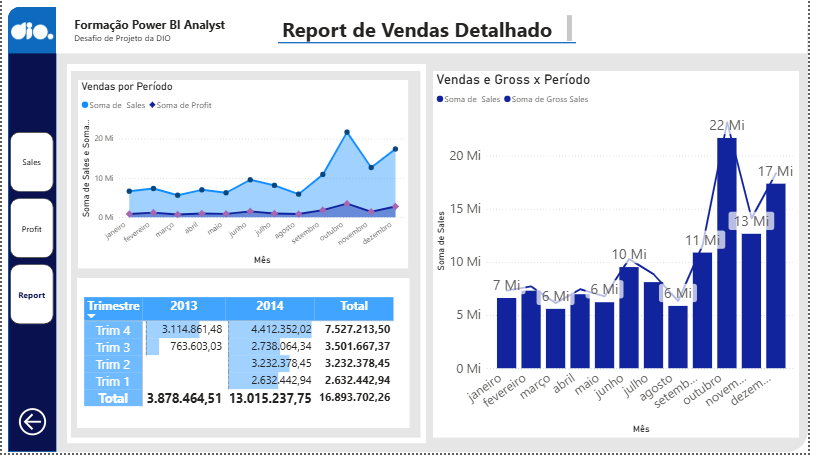

What the dashboard file says about the page in this screenshot:
{"tool":"powerbi","page":{"name":"Report","canvas":[1280,720],"ordinal":2},"visuals":[{"type":"group","id":"g1","title":"Layout","box":[10,12.8,1270,707],"z":0},{"type":"shape","box":[10,12.8,1270,707],"z":0,"group":"g1"},{"type":"shape","box":[437.3,51.5,473,37.1],"z":0,"group":"g3"},{"type":"shape","box":[103.6,103.6,569.9,601.9],"z":0,"group":"g2"},{"type":"shape","box":[10.1,13.4,77.2,706.3],"z":1000,"group":"g1"},{"type":"textbox","box":[438.7,21.3,470.2,52.2],"z":1000,"group":"g3"},{"type":"lineClusteredColumnComboChart","title":"Vendas e Gross x Período","fields":{"Category":["financials.Date.Variation.Hierarquia de datas.Mês"],"Y":["Sum(financials. Sales)"],"Y2":["Sum(financials.Gross Sales)"]},"box":[684.2,114.3,580.6,582.1],"z":1000},{"type":"shape","box":[110.3,114.6,554.7,582.1],"z":1000,"group":"g2"},{"type":"shape","box":[10.1,13.4,77.2,73.8],"z":2000,"group":"g1"},{"type":"group","id":"g2","title":"Detalhes venda x profit","box":[103.6,103.6,569.9,601.9],"z":2000},{"type":"shape","box":[120.1,443.5,528.4,238.2],"z":2000,"group":"g2"},{"type":"image","title":"logo_dio","box":[10.1,18.4,77.2,62.1],"z":3000,"group":"g1"},{"type":"textbox","title":"Título do report","box":[109.7,22.9,377.9,64],"z":3000},{"type":"areaChart","title":"Vendas por Período","fields":{"Category":["financials.Date.Variation.Hierarquia de datas.Trimestre","financials.Date.Variation.Hierarquia de datas.Mês"],"Y":["Sum(financials. Sales)","Sum(financials.Profit)"]},"box":[120.9,128.6,524.2,298.7],"z":3000,"group":"g2"},{"type":"shape","box":[87,12.8,1193.1,74.1],"z":4000,"group":"g1"},{"type":"group","id":"g3","title":"Sales report","box":[437.3,21.3,472.4,67],"z":4000},{"type":"pivotTable","fields":{"Columns":["financials.Date.Variation.Hierarquia de datas.Ano"],"Rows":["financials.Date.Variation.Hierarquia de datas.Trimestre"],"Values":["Sum(financials.Profit)"]},"box":[126,468.4,509.5,189.9],"z":4000,"group":"g2"},{"type":"actionButton","box":[20.6,622.4,55.6,96.9],"z":6000},{"type":"textbox","box":[1101,33.8,134.4,34.6],"z":9500,"group":"g4"},{"type":"group","id":"g4","title":"Botão home","box":[1101,33.8,134.4,34.6],"z":9501},{"type":"pageNavigator","box":[13.4,211.1,69.9,306.2],"z":9502}]}

Visuals, with their boxes in screenshot pixels (x1, y1, x2, y2), scaled from the page's 1280x720 canvas onto the 820x460 screenshot:
"Layout" group: <region>6, 8, 819, 459</region>
shape: <region>6, 8, 819, 459</region>
shape: <region>280, 33, 583, 57</region>
shape: <region>66, 66, 431, 451</region>
shape: <region>6, 9, 56, 459</region>
textbox: <region>281, 14, 582, 47</region>
"Vendas e Gross x Período" lineClusteredColumnComboChart: <region>438, 73, 810, 445</region>
shape: <region>71, 73, 426, 445</region>
shape: <region>6, 9, 56, 56</region>
"Detalhes venda x profit" group: <region>66, 66, 431, 451</region>
shape: <region>77, 283, 415, 436</region>
"logo_dio" image: <region>6, 12, 56, 51</region>
"Título do report" textbox: <region>70, 15, 312, 56</region>
"Vendas por Período" areaChart: <region>77, 82, 413, 273</region>
shape: <region>56, 8, 819, 56</region>
"Sales report" group: <region>280, 14, 583, 56</region>
pivotTable - financials.Date.Variation.Hierarquia de datas.Ano x financials.Date.Variation.Hierarquia de datas.Trimestre: <region>81, 299, 407, 421</region>
actionButton: <region>13, 398, 49, 459</region>
textbox: <region>705, 22, 791, 44</region>
"Botão home" group: <region>705, 22, 791, 44</region>
pageNavigator: <region>9, 135, 53, 330</region>
